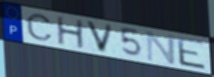5: (118, 26, 144, 59)
C: (25, 13, 55, 42)
E: (176, 35, 208, 72)
H: (55, 15, 86, 51)
N: (145, 29, 178, 65)
V: (84, 19, 116, 55)
